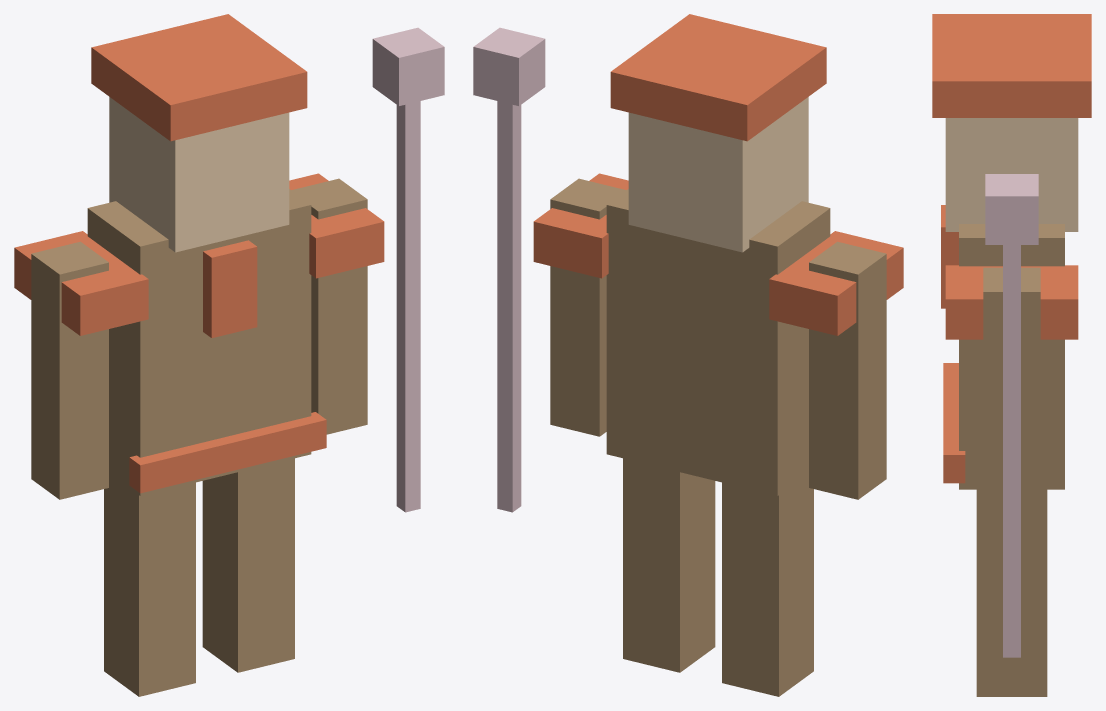
File: 13_soren_glassroot_archivist_of_simulation.glb
3 views of the same model, side by side, from view 1: azimuth 30°, elevation 25°; view 2: azimuth 150°, elevation 25°; view 3: azimuth 270°, elevation 25° (orthographic).
Visible parts, largest first — view 1: Soren Glassroot, Archivist of Simulation; view 2: Soren Glassroot, Archivist of Simulation; view 3: Soren Glassroot, Archivist of Simulation.
Boxes of the visible parts, x1,y1,x2,y2 form: Soren Glassroot, Archivist of Simulation: [14, 14, 444, 696]; Soren Glassroot, Archivist of Simulation: [473, 14, 903, 696]; Soren Glassroot, Archivist of Simulation: [932, 14, 1091, 696].
Size of the model in its own units: 1.08 by 1.62 by 0.3826.
